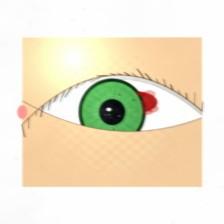hemorrhage_spot: (99, 75, 167, 129)
